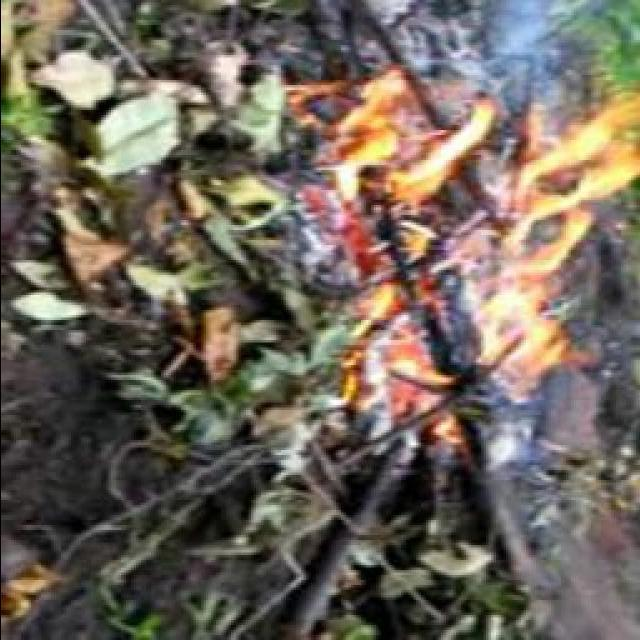Fire: (470, 88, 640, 376), (290, 85, 499, 256), (336, 264, 456, 428)
